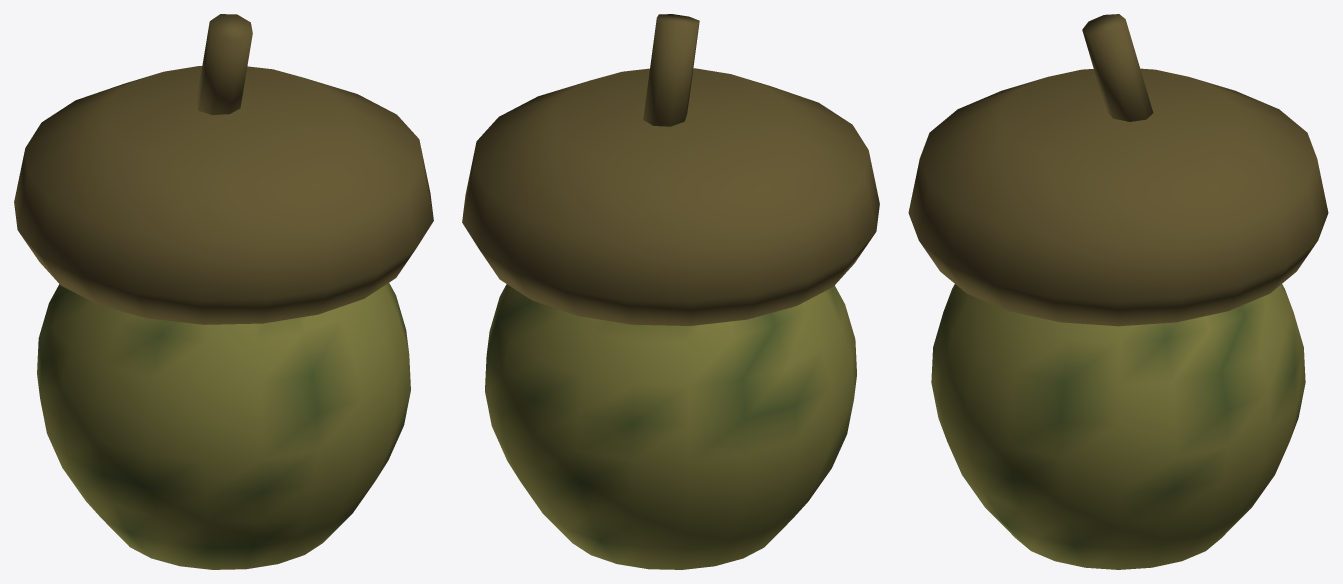
Rendered from eichel-faul.glb.
3 renders of one model, left to right at view 1: azimuth 30°, elevation 25°; view 2: azimuth 150°, elevation 25°; view 3: azimuth 270°, elevation 25°, orthographic.
Parts seen in each view (by area): view 1: eichel-faul-matt, eichel-faul-lack; view 2: eichel-faul-matt, eichel-faul-lack; view 3: eichel-faul-matt, eichel-faul-lack.
Boxes of the visible parts, <box> form: eichel-faul-matt: <box>14,14,433,324</box>; eichel-faul-lack: <box>37,283,410,569</box>; eichel-faul-matt: <box>462,14,879,325</box>; eichel-faul-lack: <box>485,284,856,569</box>; eichel-faul-matt: <box>908,14,1328,326</box>; eichel-faul-lack: <box>931,284,1305,569</box>.
Bounding box in the file's own units: 0.2688 × 0.3817 × 0.2688.
